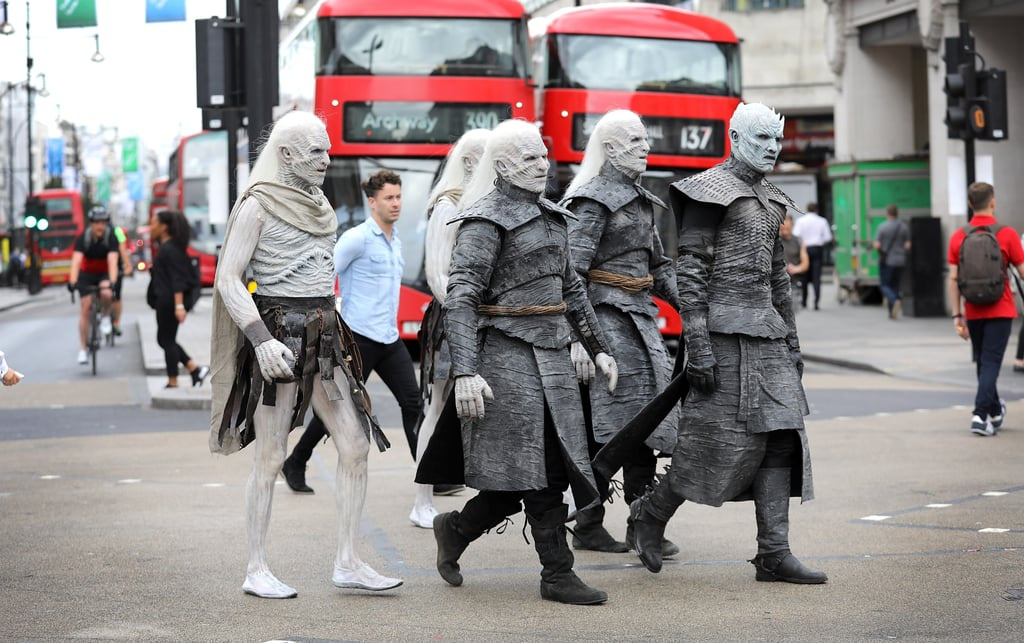bad: (373, 186, 409, 222)
